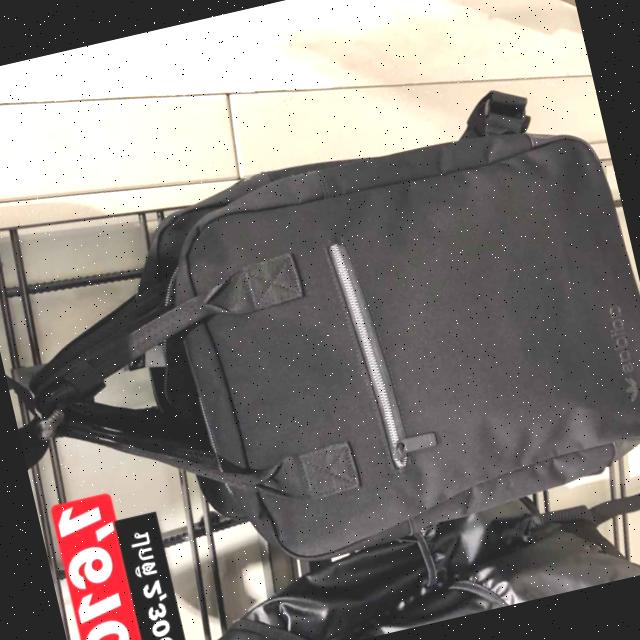Handbag: (112, 90, 640, 585)
